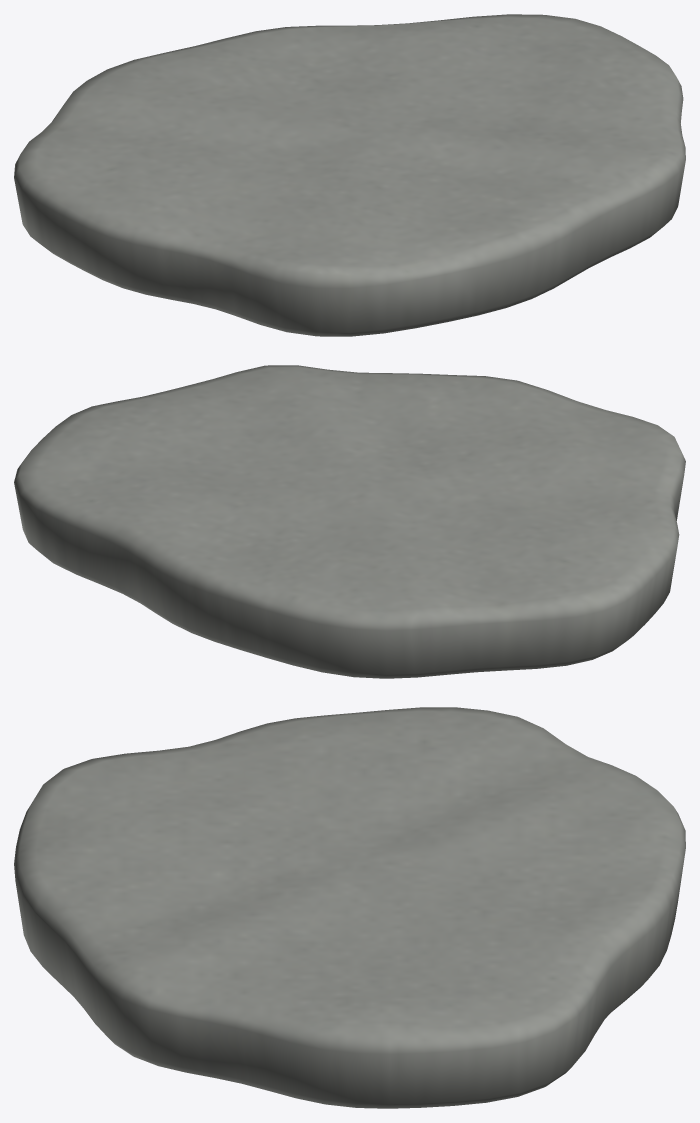
Rendered from SteppingStone_02.fbx.
3 renders of one model, top to bottom at view 1: azimuth 30°, elevation 25°; view 2: azimuth 150°, elevation 25°; view 3: azimuth 270°, elevation 25°, orthographic. The views are drawn at different scales.
Parts seen in each view (by area): view 1: SteppingStone_02; view 2: SteppingStone_02; view 3: SteppingStone_02.
Part boxes in pixels (x1,y1,x2,y2): SteppingStone_02: (14,14,685,336); SteppingStone_02: (14,365,685,678); SteppingStone_02: (14,707,685,1108).
Size of the model in its own units: 0.45 by 0.0501 by 0.3755.
Materials: 1 (1 with a texture image).
